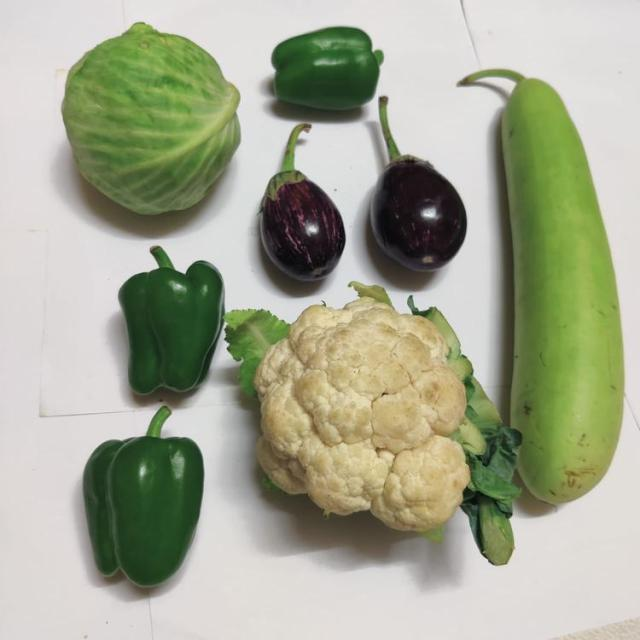Organik: (249, 294, 518, 573), (487, 55, 639, 509), (35, 21, 249, 215), (62, 400, 236, 592), (96, 240, 242, 402), (367, 100, 475, 270), (255, 123, 359, 279), (259, 26, 404, 118)
